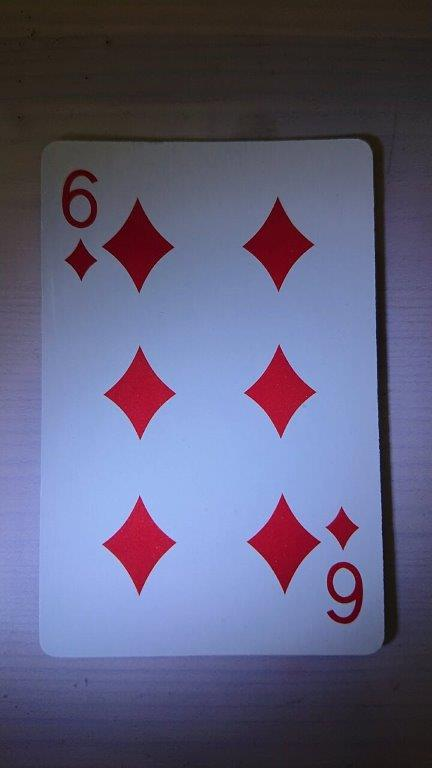6D: (37, 133, 387, 661)
